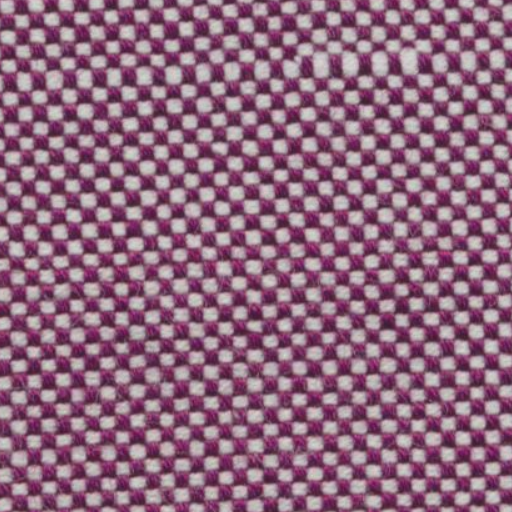TuoSha: (13, 40, 493, 104)
